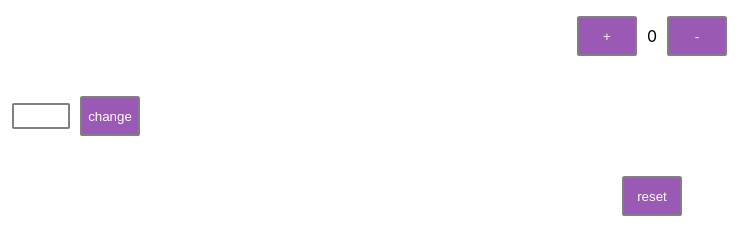
Counter component › should modify state if click button + or -
Expected: the text with class "counterDisplay" reads "0", [647,26,657,46]
Click the button "+" at x=607, y=36, box [577,16,637,56]
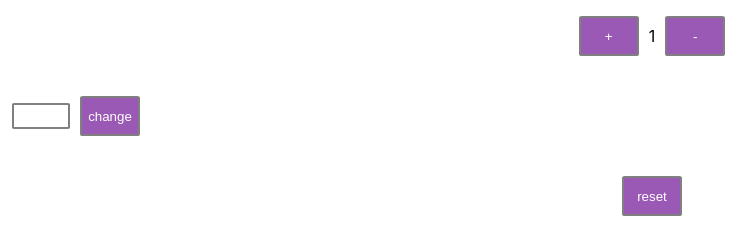
Expected: the text with class "counterDisplay" reads "1", [649,26,655,46]
Click the button "-" at x=695, y=36, box [665,16,725,56]
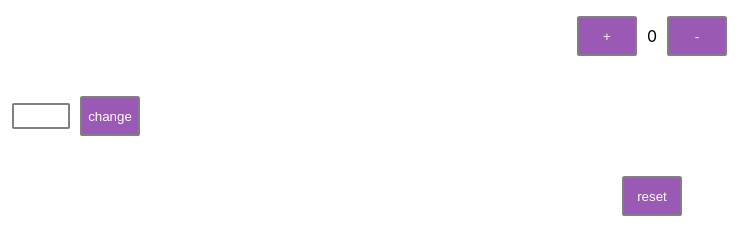
Expected: the text with class "counterDisplay" reads "0", [647,26,657,46]
Click the button "-" at x=697, y=36, box [667,16,727,56]
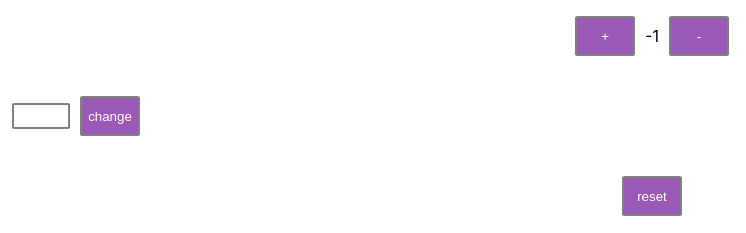
Expected: the text with class "counterDisplay" reads "-1", [645,26,659,46]
